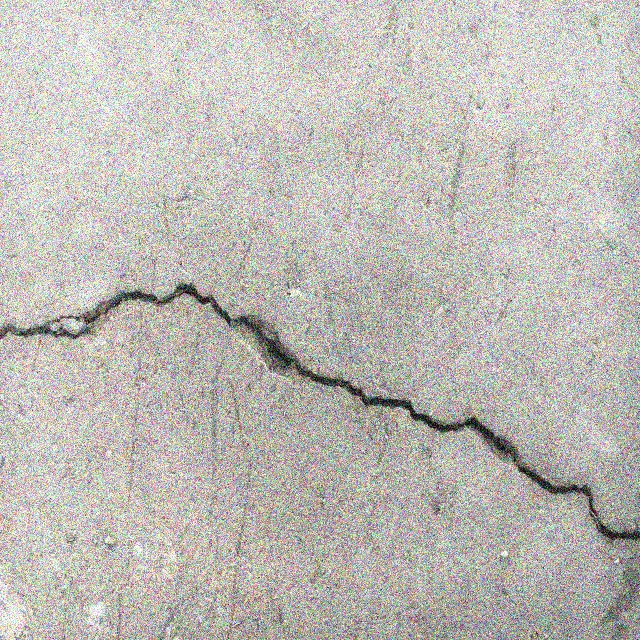SurfaceCrack: (1, 257, 639, 587)
